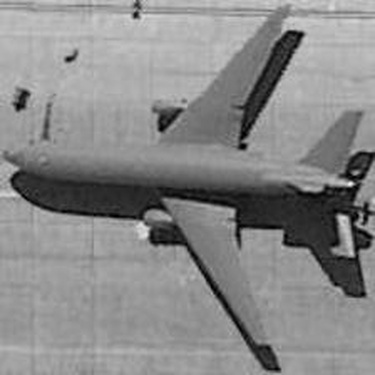airplane: (1, 1, 366, 367)
